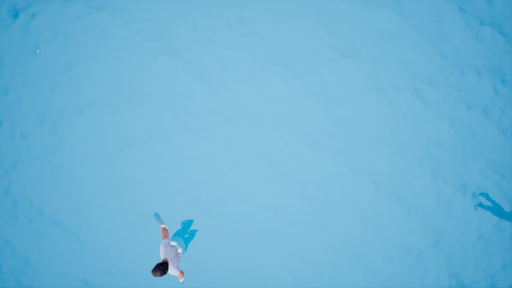person: (134, 208, 201, 288)
